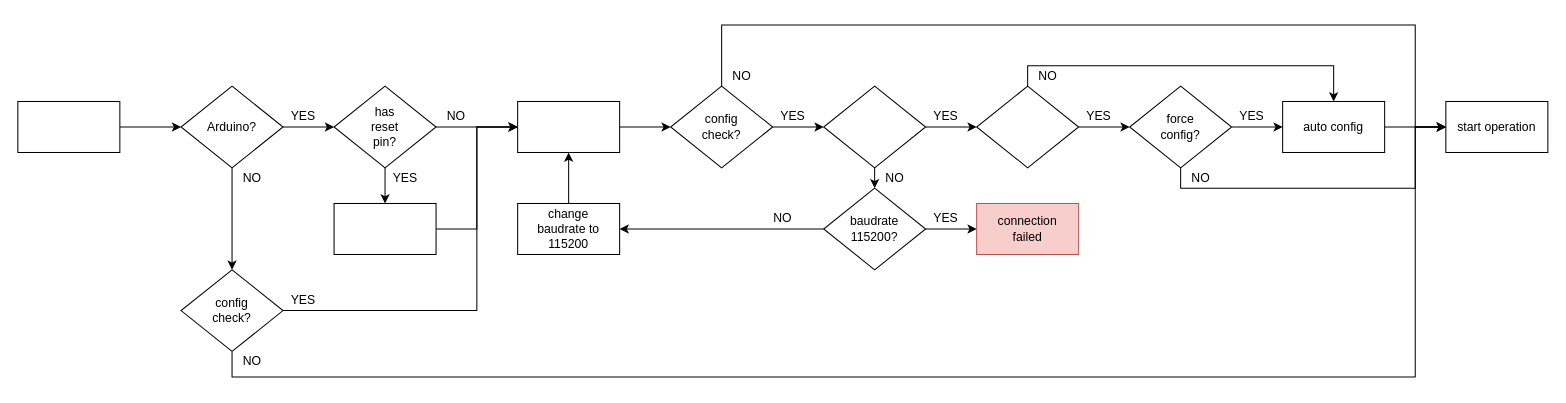
This 1566x403 diagram has some shape labels left out. The centre of each missing label's shape, as x and y in pixels:
"auto reset or manual reset" belongs at (568,126).
"begin()" belongs at (68,126).
"config matched?" belongs at (1027,126).
"reset detected?" belongs at (874,126).
"set pin mode" belongs at (384,228).
